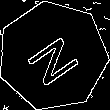N_NE: (21, 25, 85, 87)
